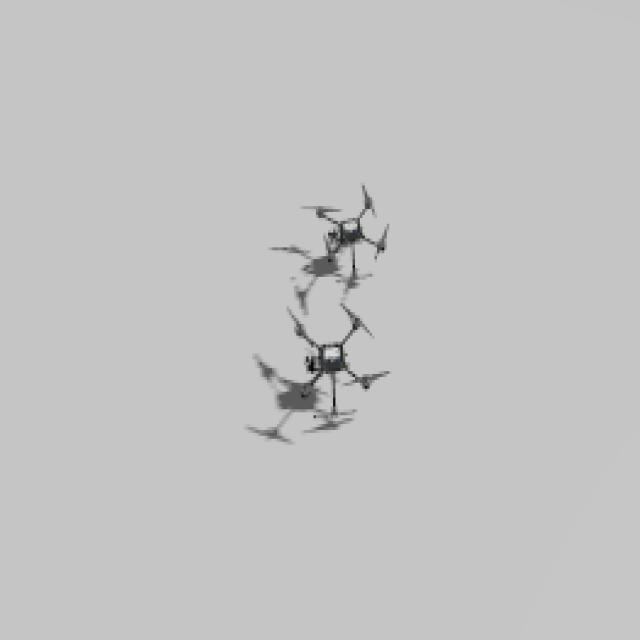drone: (281, 304, 400, 431), (301, 181, 407, 289)
